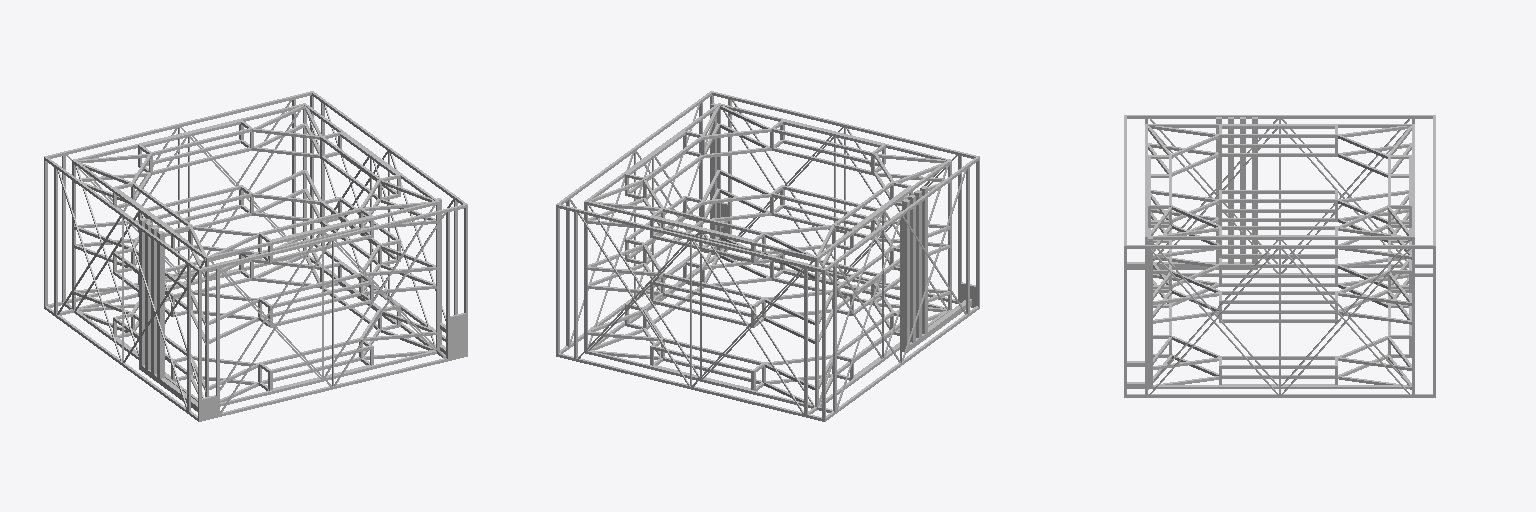
Rendered from rocket_scaffold_base.obj.
The picture shows the model from 3 angles: view 1: azimuth 30°, elevation 25°; view 2: azimuth 150°, elevation 25°; view 3: azimuth 270°, elevation 25°; orthographic projection.
Parts seen in each view (by area): view 1: cube; view 2: cube; view 3: cube.
Part boxes in pixels (x1,y1,x2,y2): cube: (44,91,467,421); cube: (556,91,979,421); cube: (1124,115,1435,397).
Size of the model in its own units: 13 by 7.08 by 13.